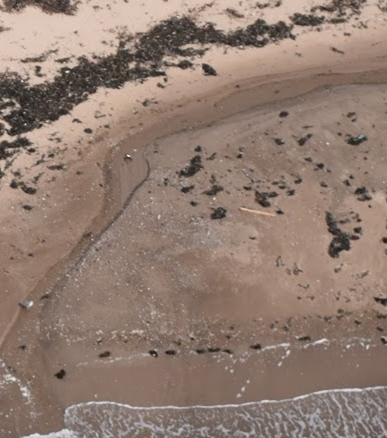straight_bar: (235, 200, 282, 219)
white_in_green: (6, 282, 46, 320)
